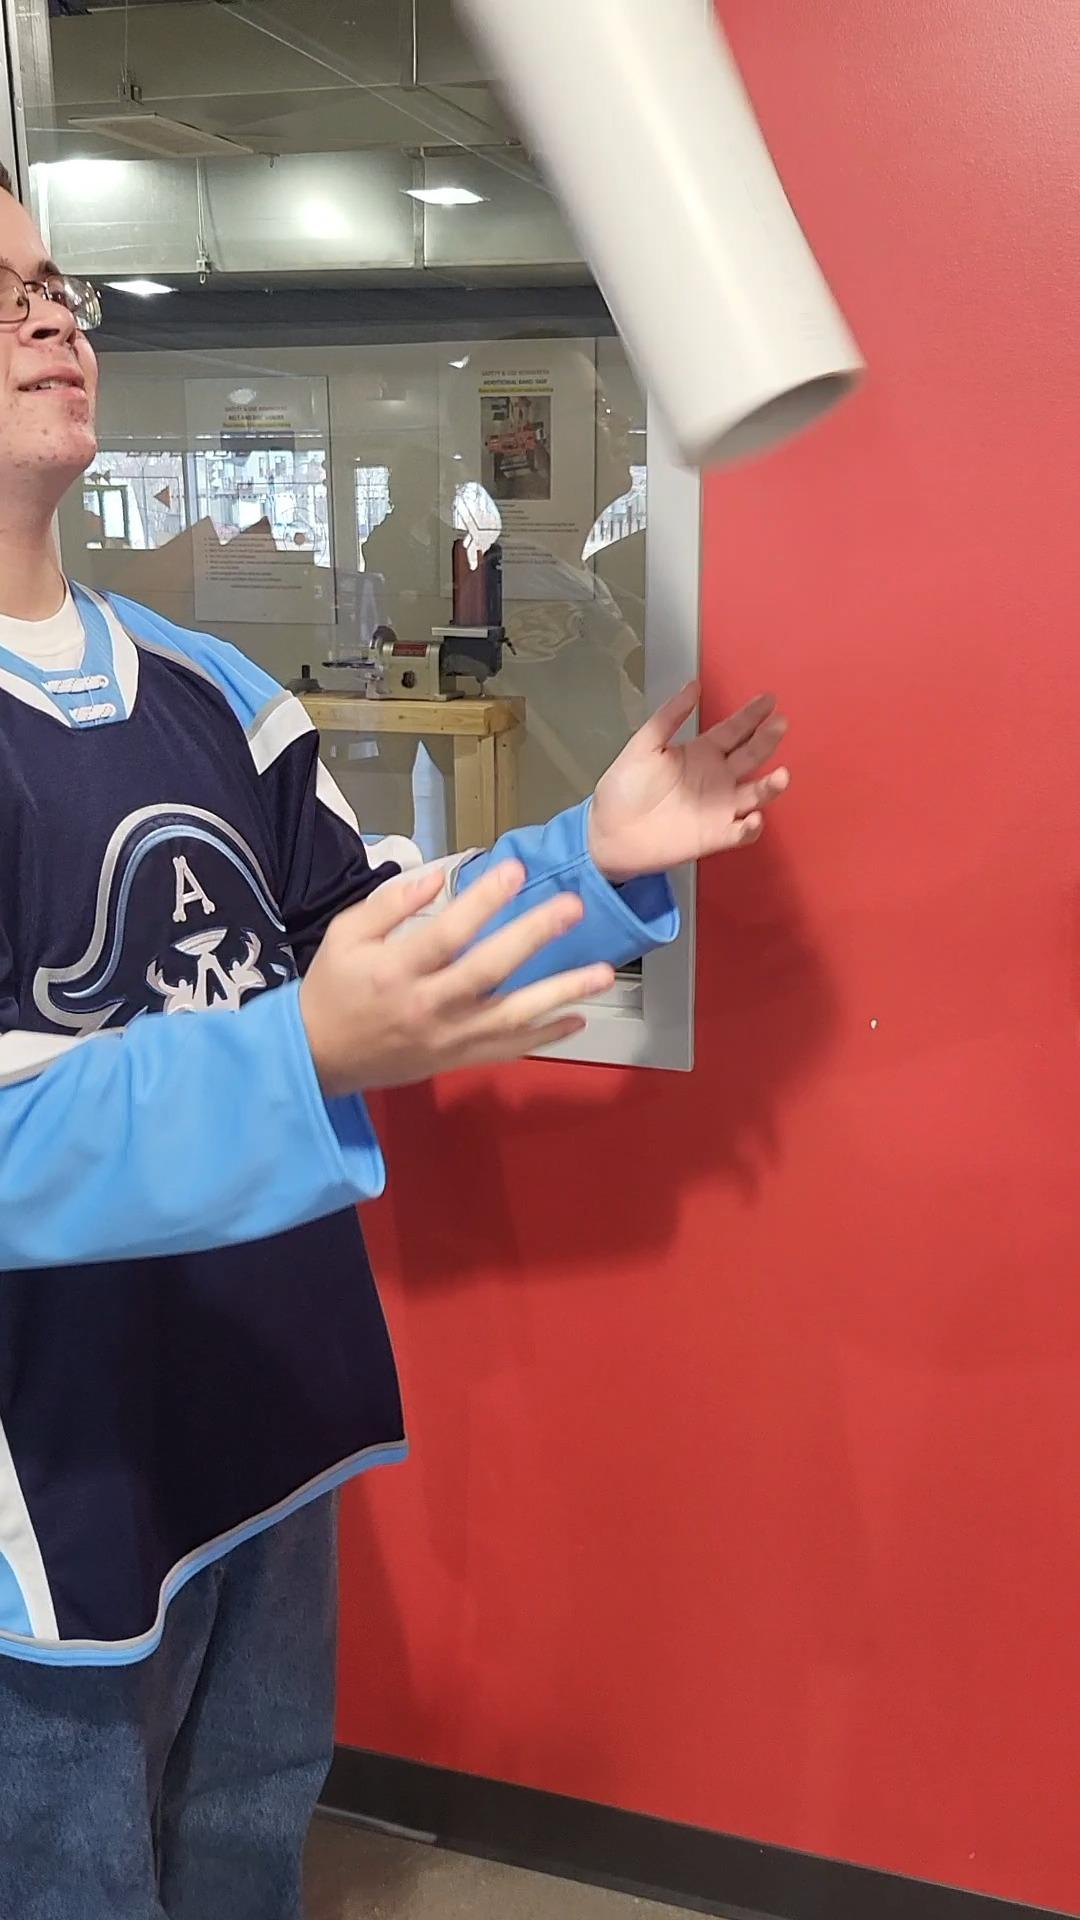coral: (467, 0, 877, 487)
